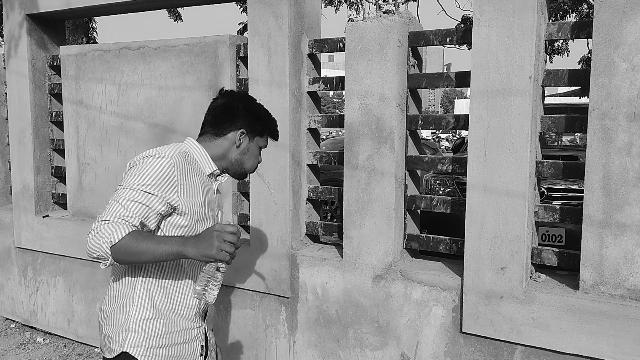spit: (202, 95, 289, 218)
